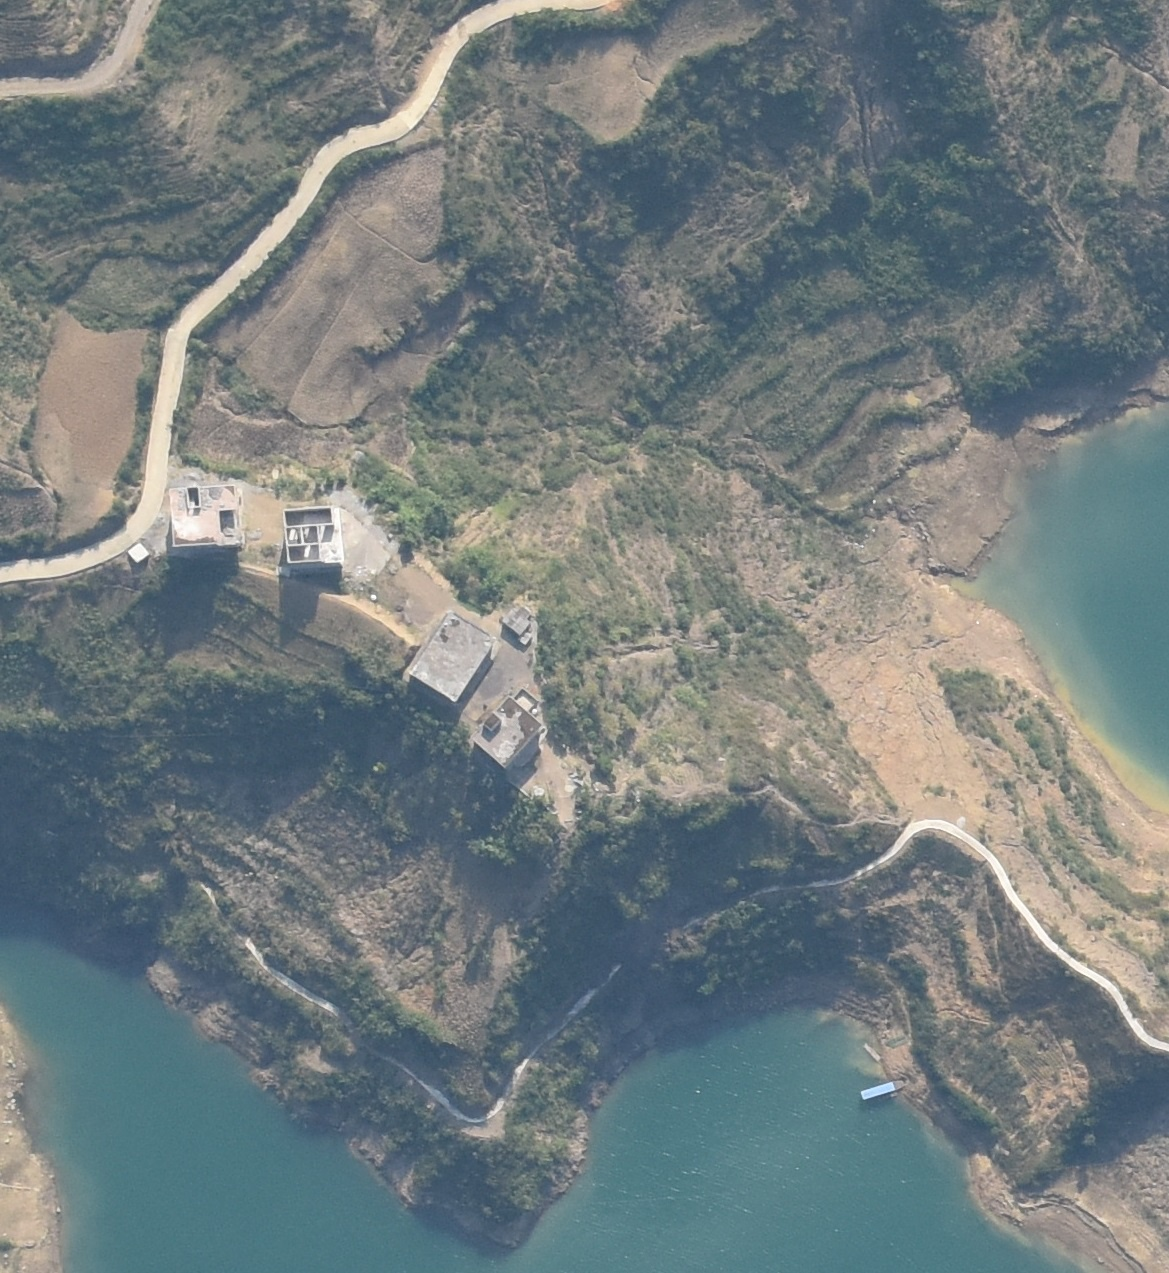building: (406, 612, 490, 703), (476, 688, 545, 766), (169, 483, 244, 550), (283, 505, 345, 573), (501, 600, 536, 642), (126, 542, 149, 564)
ship: (861, 1077, 904, 1101), (861, 1042, 881, 1061)
